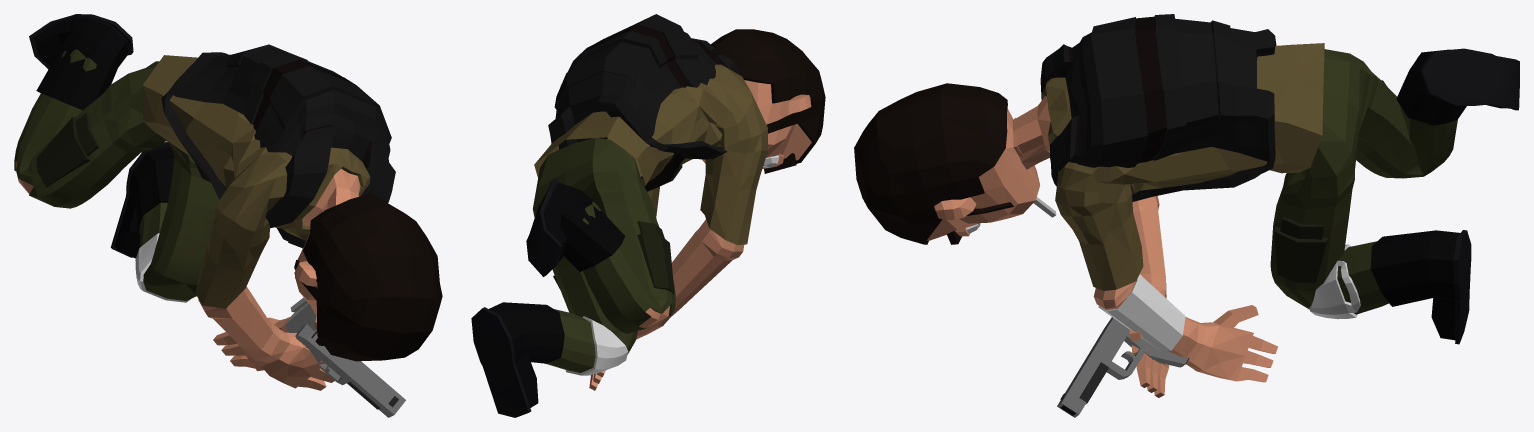
File: frame_0018.obj
The picture shows the model from 3 angles, left to right: view 1: azimuth 30°, elevation 25°; view 2: azimuth 150°, elevation 25°; view 3: azimuth 270°, elevation 25°; orthographic projection. The views are drawn at different scales.
Visible parts, largest first — view 1: Body, Gun; view 2: Body; view 3: Body, Gun.
Boxes of the visible parts, x1=… form: Body: x1=14, y1=14, x2=442, y2=390; Gun: x1=295, y1=324, x2=405, y2=417; Body: x1=471, y1=14, x2=825, y2=417; Body: x1=854, y1=14, x2=1519, y2=397; Gun: x1=1057, y1=317, x2=1189, y2=417.
Size of the model in its own units: 1.41 by 2.05 by 3.4.
